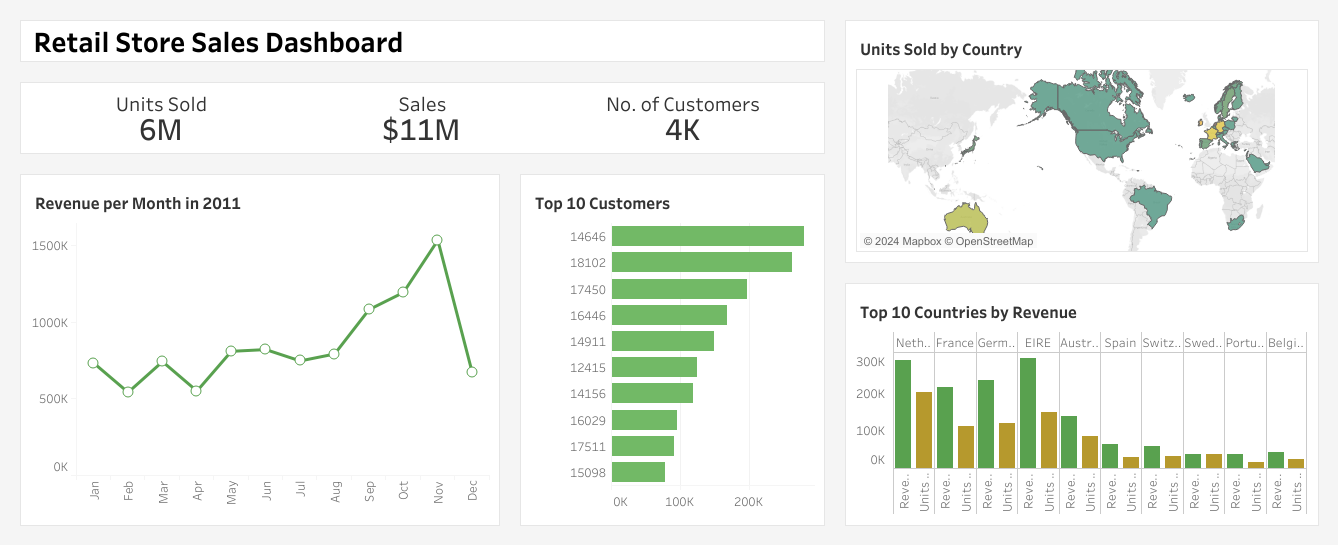

Layout of this report page (visuals, bound fields, positions):
{"tool":"tableau","page":{"name":"Dashboard 2","canvas":[1000,1000],"units":"permille","ordinal":1},"visuals":[{"type":"text","box":[8.4,16.6,614.8,113.7]},{"type":"worksheet","title":"Units Sold per Country","mark":"Automatic","box":[623.2,16.6,368.4,483.3]},{"type":"worksheet","title":"KPIs","mark":"Automatic","box":[8.4,130.3,614.8,169.9]},{"type":"worksheet","title":"Revenue in Year 2011","mark":"Automatic","rows":["Calculation_590534558603505664","Calculation_590534558603505664"],"cols":["InvoiceDate"],"box":[8.4,300.2,372.7,683.2]},{"type":"worksheet","title":"Top 10 Customers","mark":"Automatic","rows":["CustomerID"],"cols":["Calculation_590534558603505664"],"box":[381.1,300.2,242.1,683.2]},{"type":"worksheet","title":"Top 10 Countries by Revenue","mark":"Automatic","cols":["Country"],"box":[623.2,499.9,368.4,483.5]}]}

Visuals, with their boxes on the dashboard's canvas, which has no fixed pixel size, in thousandths of its width and height (x1, y1, x2, y2). These are canvas units, not pixel positions in the 1338x545 screenshot, which may show the page scaled, cropped or inside an application window:
text: region(8, 17, 623, 130)
"Units Sold per Country" worksheet: region(623, 17, 992, 500)
"KPIs" worksheet: region(8, 130, 623, 300)
"Revenue in Year 2011" worksheet: region(8, 300, 381, 983)
"Top 10 Customers" worksheet: region(381, 300, 623, 983)
"Top 10 Countries by Revenue" worksheet: region(623, 500, 992, 983)
